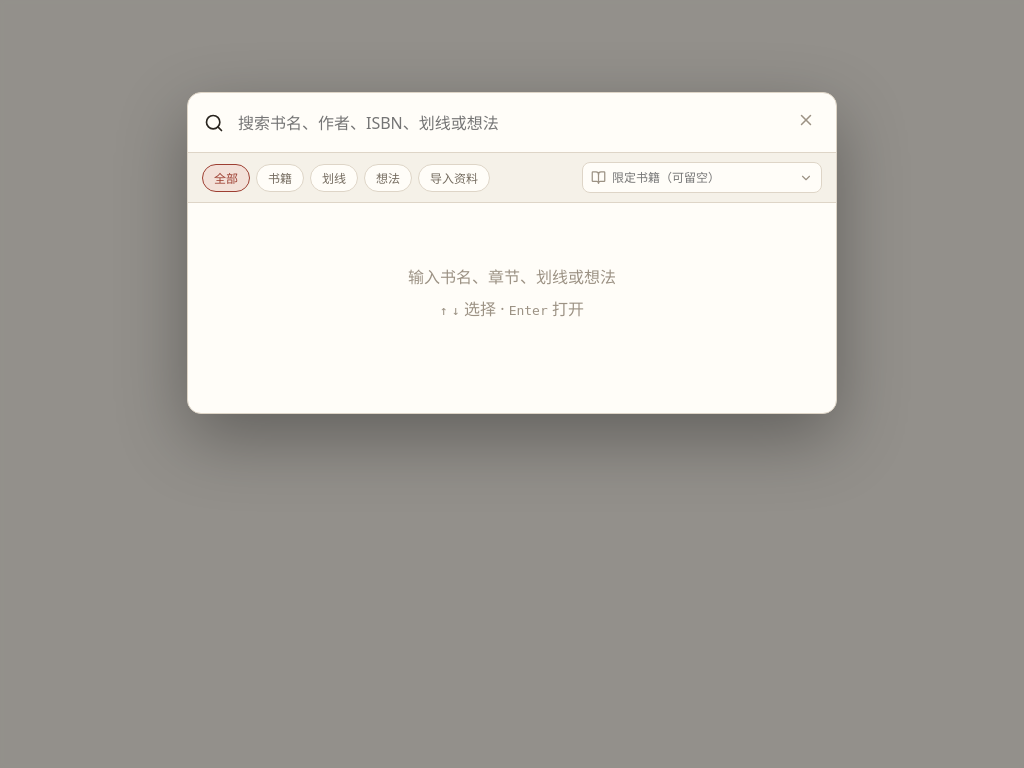
Test: SearchDialog › 旧请求的响应不会覆盖新请求的结果
Step 1. Type "旧" into the dropdown with placeholder "搜索书名、作者、ISBN、划线或想法" → (508,123), box [236, 111, 780, 135]
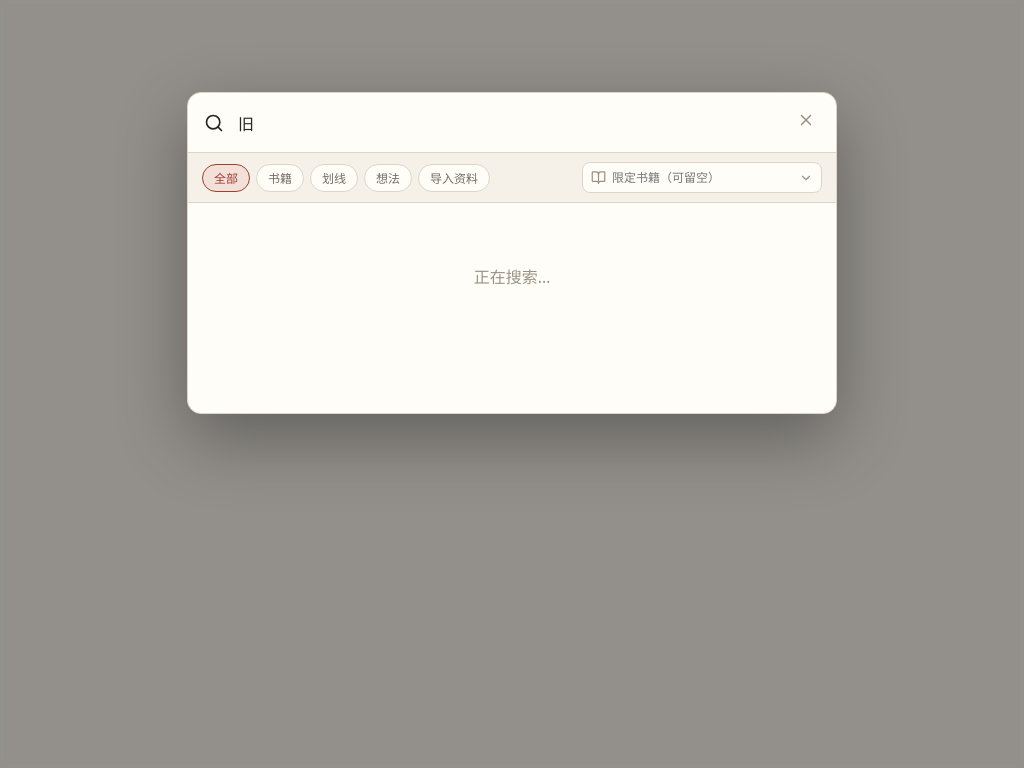
Step 2. Replace the text in the dropdown with placeholder "搜索书名、作者、ISBN、划线或想法" with "新" → (508,123), box [236, 111, 780, 135]
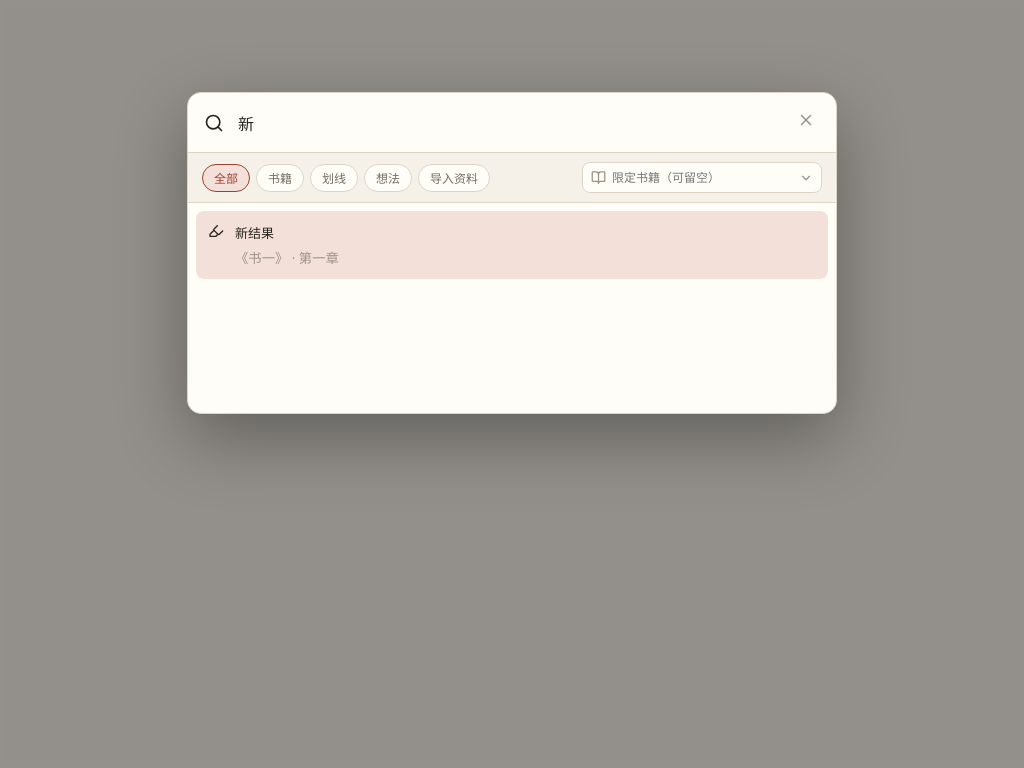
Result: the text "新结果" is shown at [235, 224, 274, 242]
